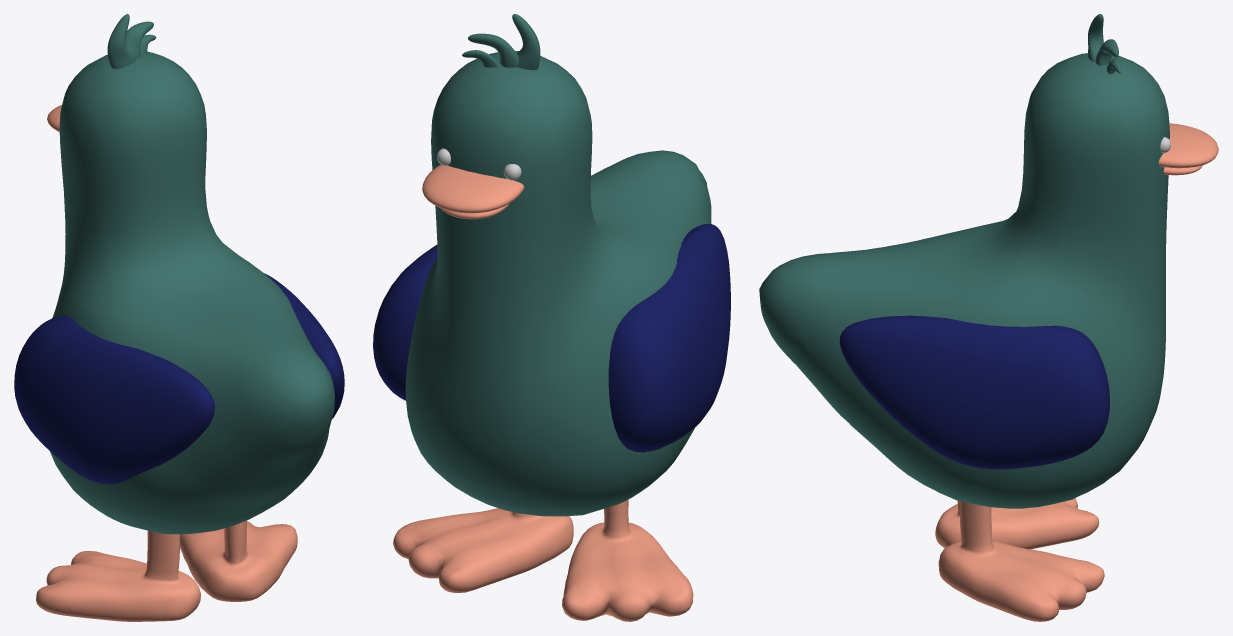
Rendered from duck.obj.
The picture shows the model from 3 angles, left to right: view 1: azimuth 30°, elevation 25°; view 2: azimuth 150°, elevation 25°; view 3: azimuth 270°, elevation 25°; orthographic projection. The views are drawn at different scales.
Parts seen in each view (by area): view 1: Body; view 2: Body; view 3: Body.
Part boxes in pixels (<box>): Body: <box>14,14,344,621</box>; Body: <box>373,14,730,621</box>; Body: <box>759,14,1218,621</box>.
Bounding box in the file's own units: 3.86 × 7.6 × 5.78.
